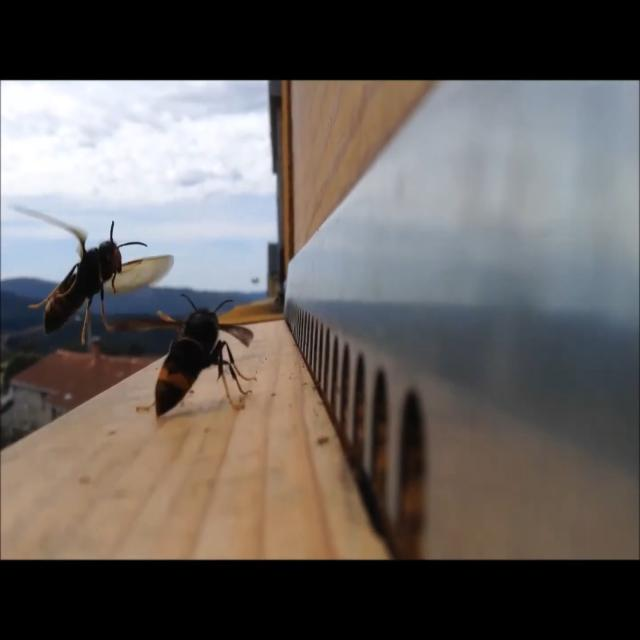Hornets: (8, 200, 177, 345), (133, 288, 260, 423)
